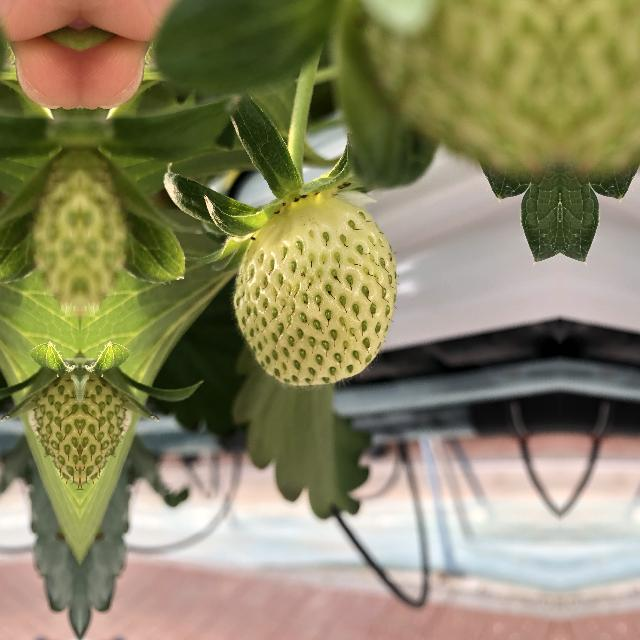Health_25: (227, 188, 403, 398)
